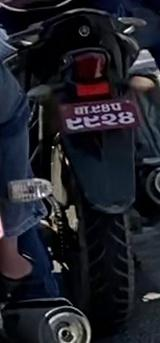license-plate: (38, 88, 160, 137)
